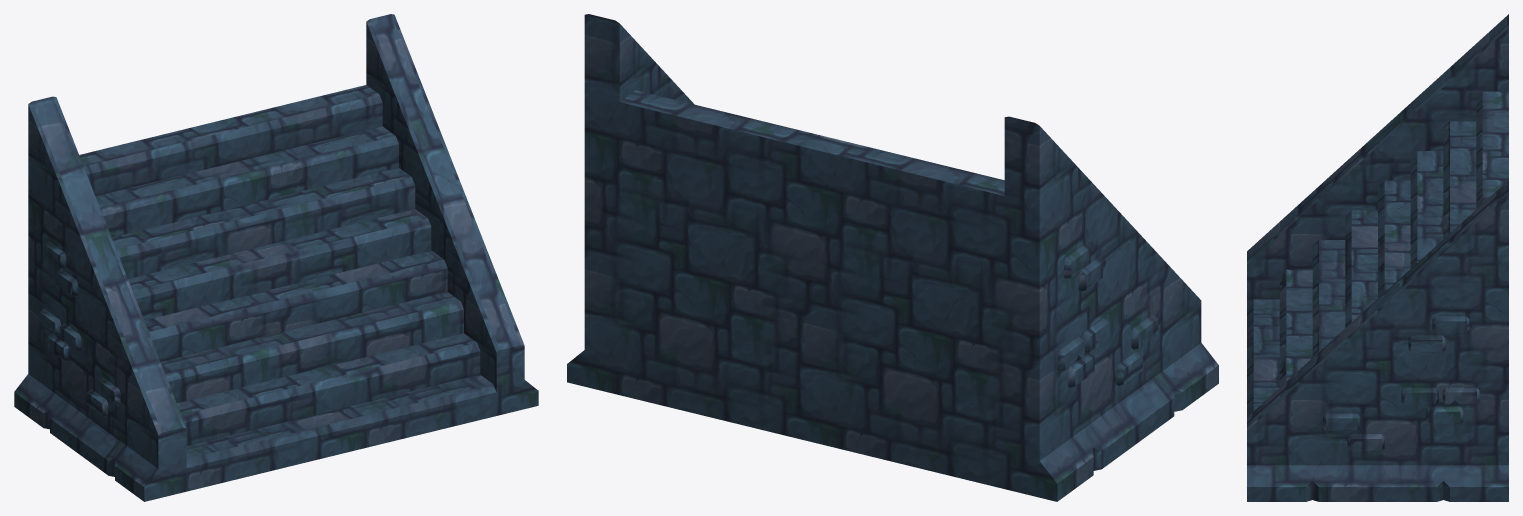
Rendered from stairs_wide.gltf.
3 views of the same model, side by side, from view 1: azimuth 30°, elevation 25°; view 2: azimuth 150°, elevation 25°; view 3: azimuth 270°, elevation 25° (orthographic). The views are drawn at different scales.
Parts seen in each view (by area): view 1: stairs_wide; view 2: stairs_wide; view 3: stairs_wide.
Part boxes in pixels (bbox=[...]): stairs_wide: bbox=[14, 14, 538, 501]; stairs_wide: bbox=[567, 14, 1218, 501]; stairs_wide: bbox=[1247, 14, 1508, 501].
Bounding box in the file's own units: 7 × 5.1 × 4.
1 material, 1 textured.
